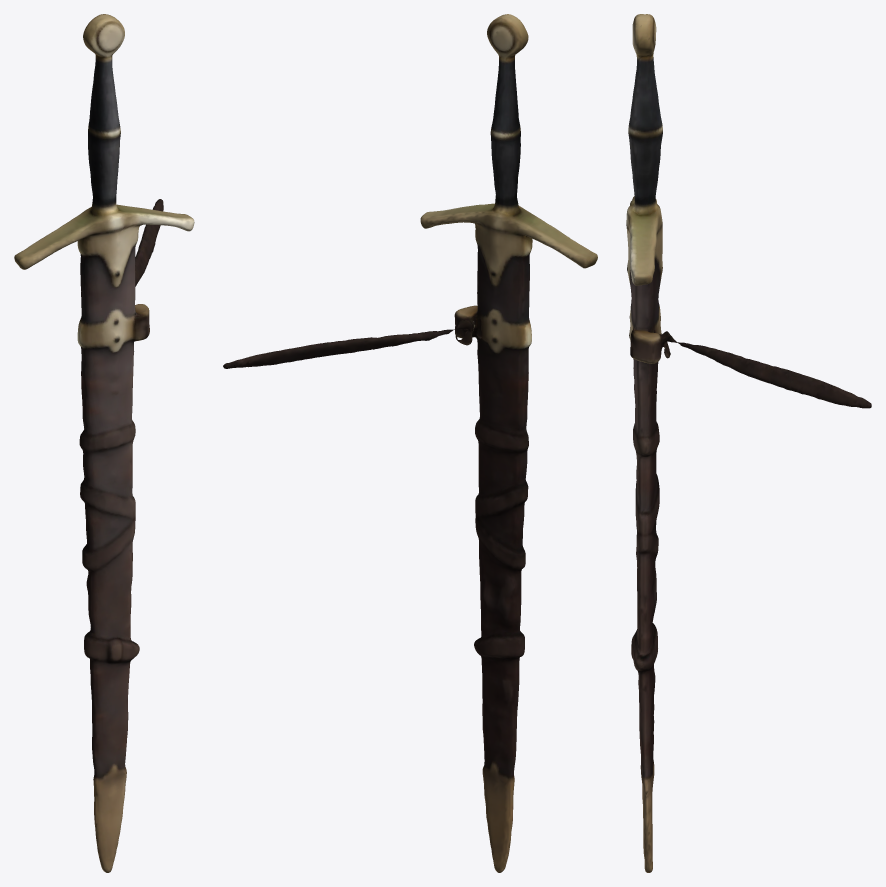
3 views of the same model, side by side, from view 1: azimuth 30°, elevation 25°; view 2: azimuth 150°, elevation 25°; view 3: azimuth 270°, elevation 25° (orthographic).
Visible parts, largest first — view 1: Mesh_0; view 2: Mesh_0; view 3: Mesh_0.
Part boxes in pixels (x1=…): Mesh_0: x1=14, y1=14, x2=194, y2=872; Mesh_0: x1=223, y1=14, x2=597, y2=872; Mesh_0: x1=626, y1=14, x2=871, y2=872.
Size of the model in its own units: 0.307 by 0.97 by 0.2525.
1 material, 1 textured.
